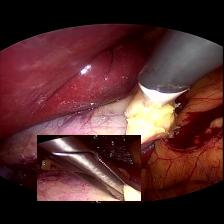Grasper: (38, 134, 142, 200)
Hook: (124, 80, 181, 115)
